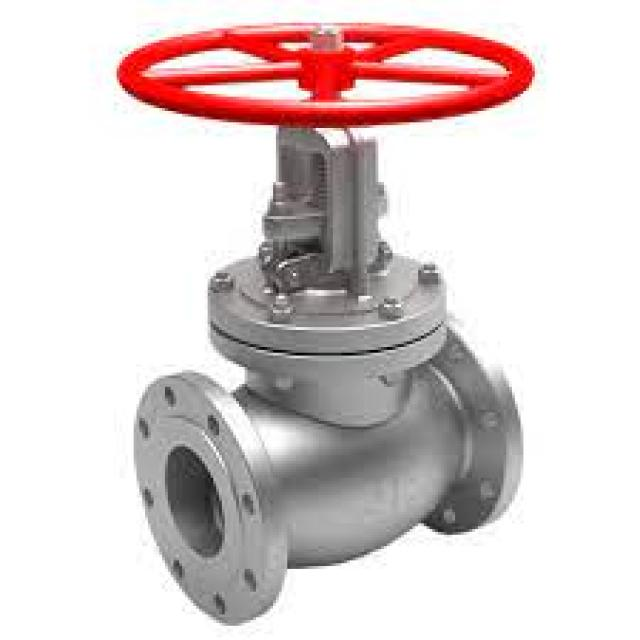Wheel Handle Valve Threaded: (111, 11, 538, 148)
